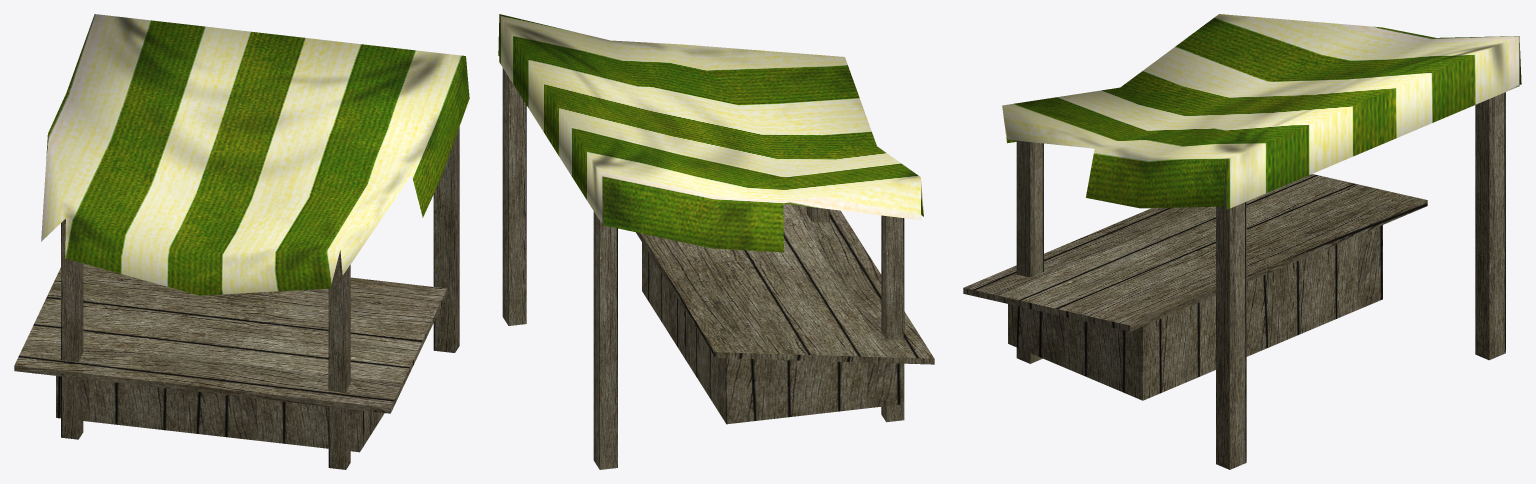
File: Structure_kiosk_green.FBX
The picture shows the model from 3 angles, left to right: view 1: azimuth 30°, elevation 25°; view 2: azimuth 150°, elevation 25°; view 3: azimuth 270°, elevation 25°; orthographic projection. The views are drawn at different scales.
Visible parts, largest first — view 1: kiosk_green; view 2: kiosk_green; view 3: kiosk_green.
Part boxes in pixels (x1,y1,x2,y2): kiosk_green: (14,14,469,469); kiosk_green: (498,14,934,469); kiosk_green: (963,14,1521,469).
Bounding box in the file's own units: 669 × 423 × 684.
